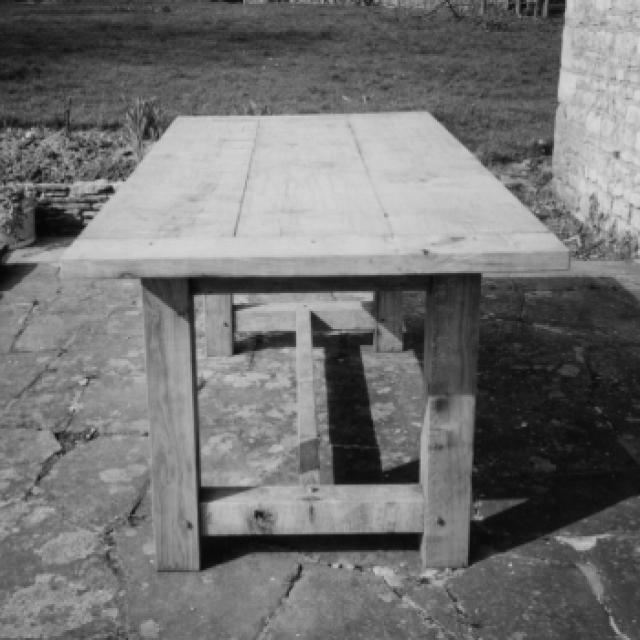table: (61, 114, 572, 573)
